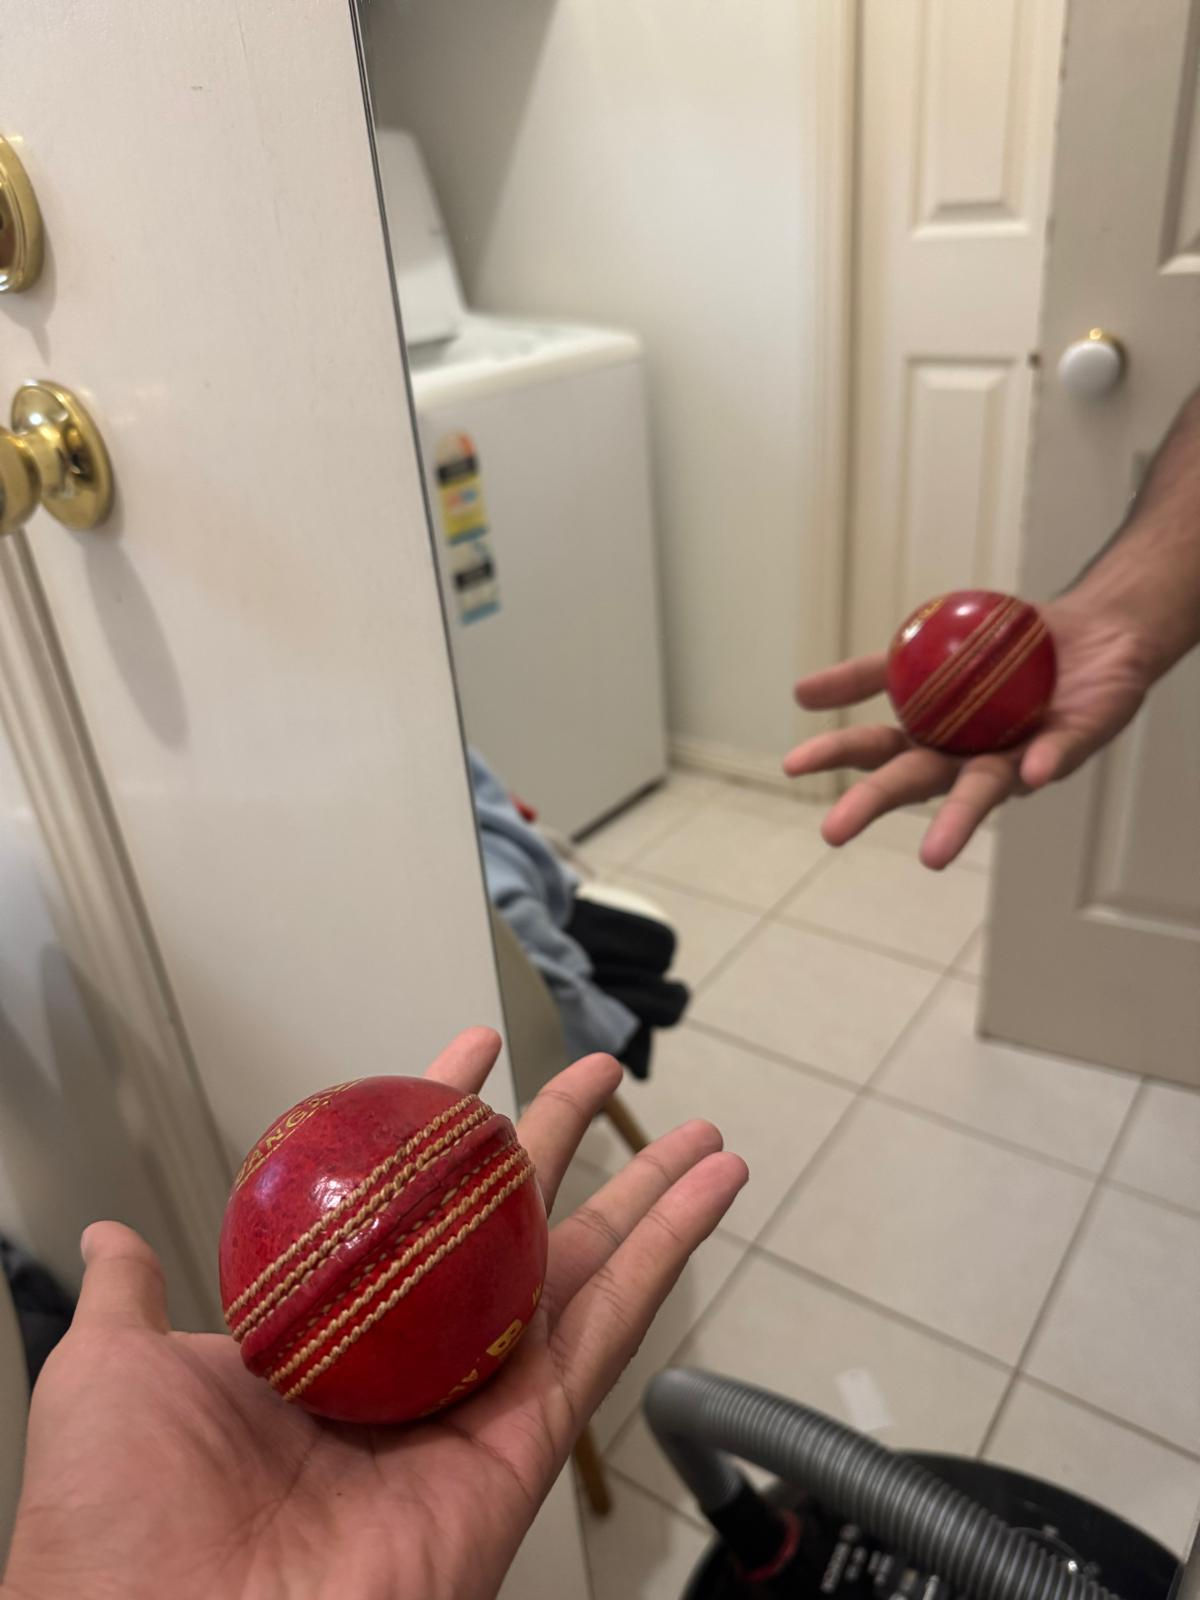Red_Ball: (199, 1063, 558, 1431), (876, 578, 1063, 747)
